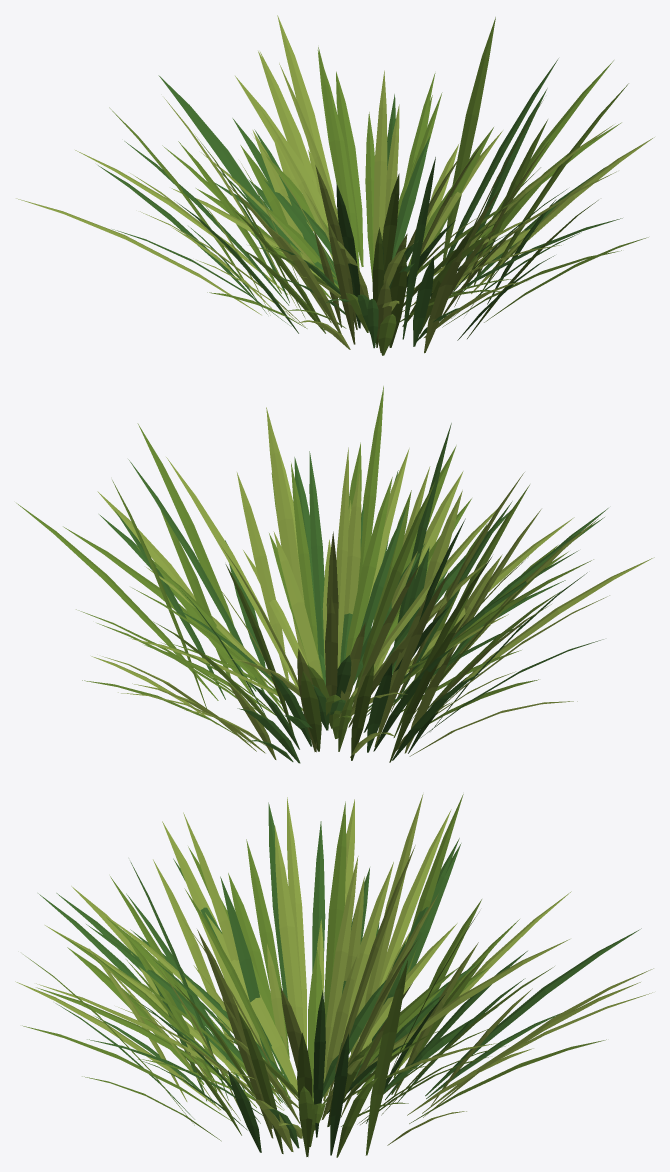
Rendered from jungle_grass_tall.glb.
3 renders of one model, top to bottom at view 1: azimuth 30°, elevation 25°; view 2: azimuth 150°, elevation 25°; view 3: azimuth 270°, elevation 25°, orthographic. The views are drawn at different scales.
Parts seen in each view (by area): view 1: jungle_grass_tall; view 2: jungle_grass_tall; view 3: jungle_grass_tall.
Boxes of the visible parts, left/top/right/bottom form: jungle_grass_tall: left=16, top=15, right=654, bottom=355; jungle_grass_tall: left=16, top=386, right=654, bottom=763; jungle_grass_tall: left=15, top=794, right=653, bottom=1157.
Bounding box in the file's own units: 2.3 × 0.8711 × 2.11.
